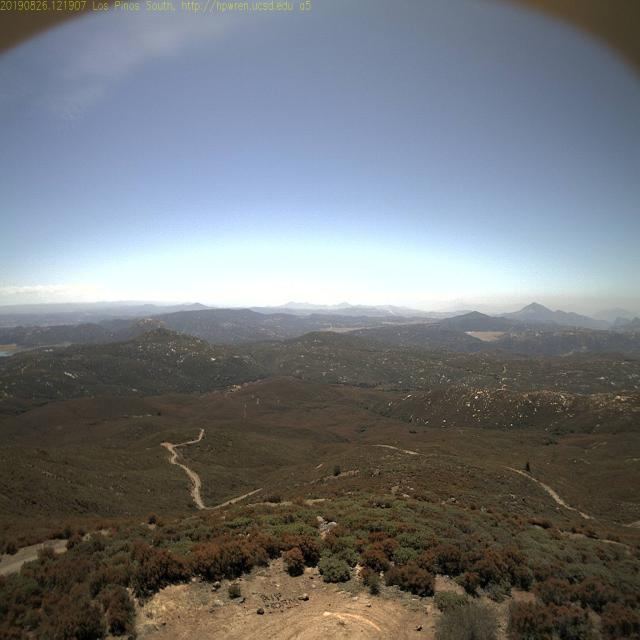smoke: (384, 302, 398, 318)
